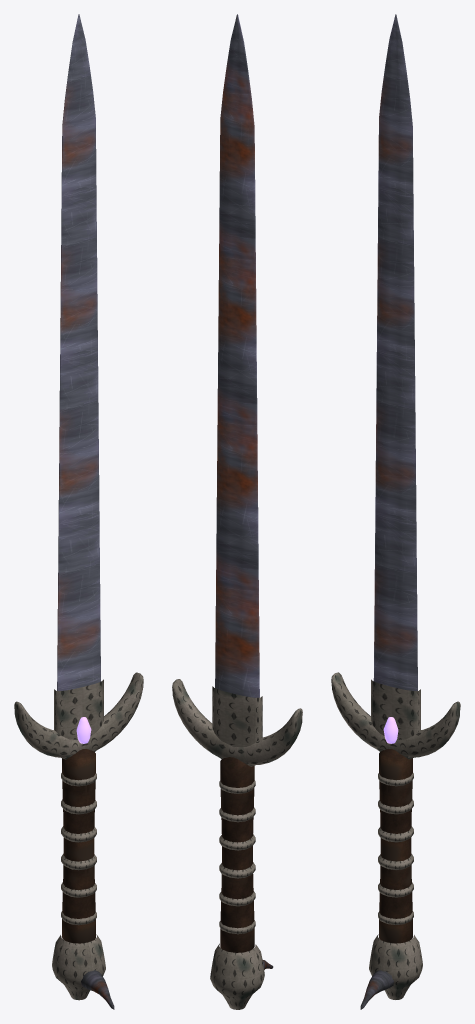
File: lame_de_la_veille.glb
3 views of the same model, side by side, from view 1: azimuth 30°, elevation 25°; view 2: azimuth 150°, elevation 25°; view 3: azimuth 330°, elevation 25° (orthographic).
Parts seen in each view (by area): view 1: Epee; view 2: Epee; view 3: Epee.
Boxes of the visible parts, x1,y1,x2,y2 form: Epee: (14,14,143,1009); Epee: (172,14,302,1009); Epee: (331,14,460,1009).
Bounding box in the file's own units: 0.1599 × 1.21 × 0.1084.
5 materials, 4 textured.
